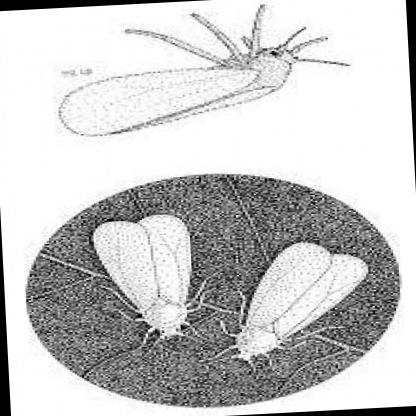whitefly: (57, 7, 350, 135), (233, 242, 369, 358), (92, 215, 190, 336)
